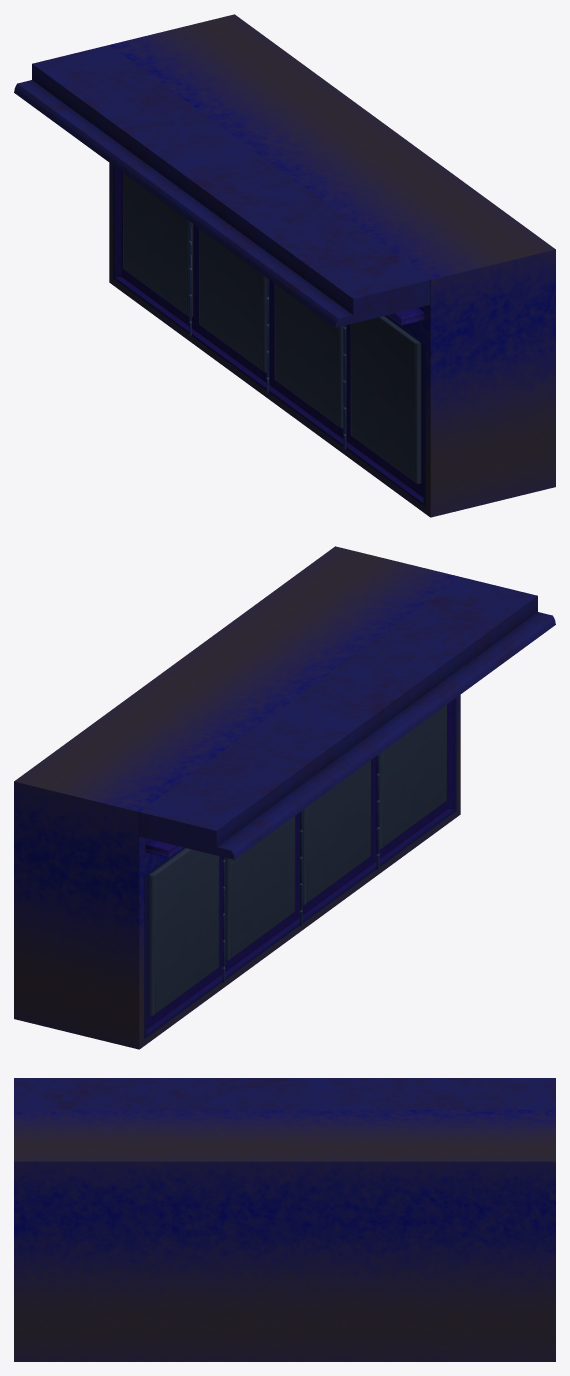
Rendered from Building11.fbx.
3 views of the same model, one above another, from view 1: azimuth 30°, elevation 25°; view 2: azimuth 150°, elevation 25°; view 3: azimuth 270°, elevation 25° (orthographic). The views are drawn at different scales.
Visible parts, largest first — view 1: Cube.001, Cube.003, Cube.004; view 2: Cube.001, Cube.003, Cube.004; view 3: Cube.001, Cube.003.
Boxes of the visible parts, x1=… form: Cube.001: x1=109, y1=14, x2=555, y2=517; Cube.003: x1=14, y1=45, x2=430, y2=327; Cube.004: x1=189, y1=221, x2=346, y2=449; Cube.001: x1=14, y1=546, x2=460, y2=1049; Cube.003: x1=139, y1=577, x2=555, y2=859; Cube.004: x1=222, y1=754, x2=379, y2=982; Cube.001: x1=14, y1=1110, x2=555, y2=1361; Cube.003: x1=14, y1=1078, x2=555, y2=1109.
Size of the model in its own units: 1973 by 2029 by 4975.
4 materials, 4 textured.
